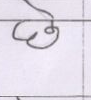e_matra: (20, 0, 58, 18)
